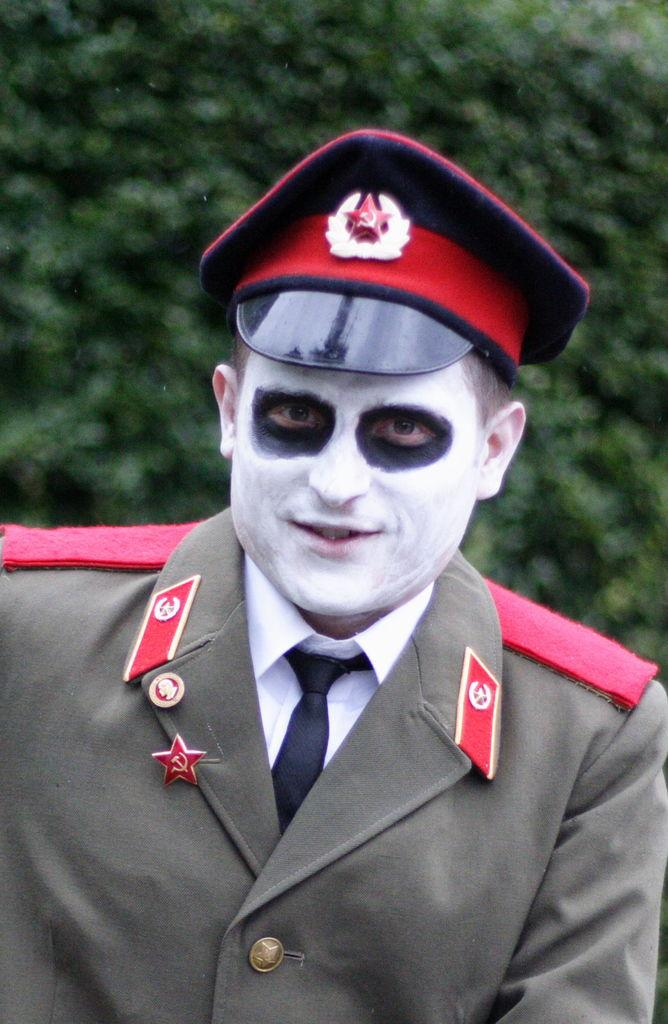Hat: (196, 129, 586, 378)
